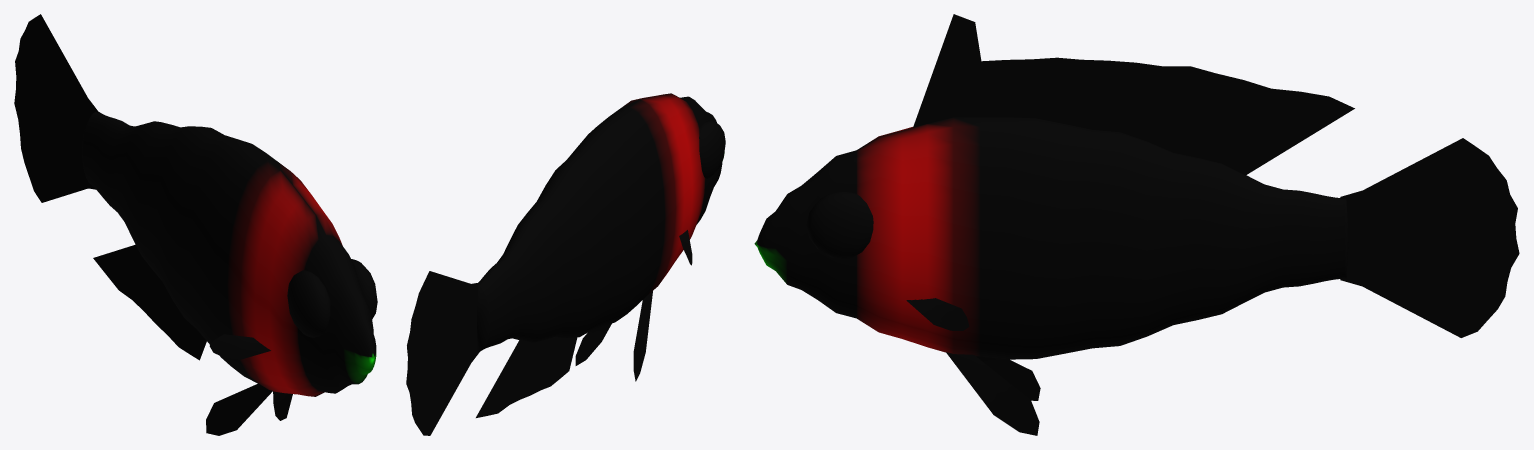
The model's file is ram-cichlid.glb.
3 views of the same model, side by side, from view 1: azimuth 30°, elevation 25°; view 2: azimuth 150°, elevation 25°; view 3: azimuth 270°, elevation 25° (orthographic). The views are drawn at different scales.
Visible parts, largest first — view 1: ram_body, ram_caudal, ram_anal, ram_eyeL, ram_pelvicL, ram_pectoralL, ram_eyeR, ram_pelvicR; view 2: ram_body, ram_caudal, ram_anal, ram_eyeL, ram_pelvicL, ram_pelvicR; view 3: ram_body, ram_dorsal, ram_caudal, ram_eyeR, ram_pelvicR, ram_pectoralR, ram_pelvicL.
Part boxes in pixels (x1=…): ram_body: x1=82, y1=111, x2=376, y2=396; ram_caudal: x1=14, y1=14, x2=98, y2=202; ram_anal: x1=93, y1=244, x2=206, y2=360; ram_eyeL: x1=287, y1=270, x2=330, y2=337; ram_pelvicL: x1=206, y1=383, x2=272, y2=435; ram_pectoralL: x1=209, y1=334, x2=270, y2=359; ram_eyeR: x1=351, y1=259, x2=377, y2=319; ram_pelvicR: x1=273, y1=391, x2=292, y2=420; ram_body: x1=477, y1=93, x2=724, y2=351; ram_caudal: x1=406, y1=271, x2=480, y2=435; ram_anal: x1=476, y1=337, x2=577, y2=417; ram_eyeL: x1=699, y1=120, x2=725, y2=178; ram_pelvicL: x1=633, y1=291, x2=652, y2=381; ram_pelvicR: x1=575, y1=323, x2=611, y2=365; ram_body: x1=754, y1=117, x2=1348, y2=359; ram_dorsal: x1=913, y1=14, x2=1354, y2=175; ram_caudal: x1=1340, y1=138, x2=1519, y2=337; ram_eyeR: x1=806, y1=191, x2=873, y2=258; ram_pelvicR: x1=946, y1=352, x2=1039, y2=435; ram_pectoralR: x1=906, y1=298, x2=969, y2=330; ram_pelvicL: x1=976, y1=356, x2=1040, y2=400.
Size of the model in its own units: 0.2644 by 0.7548 by 1.29.
